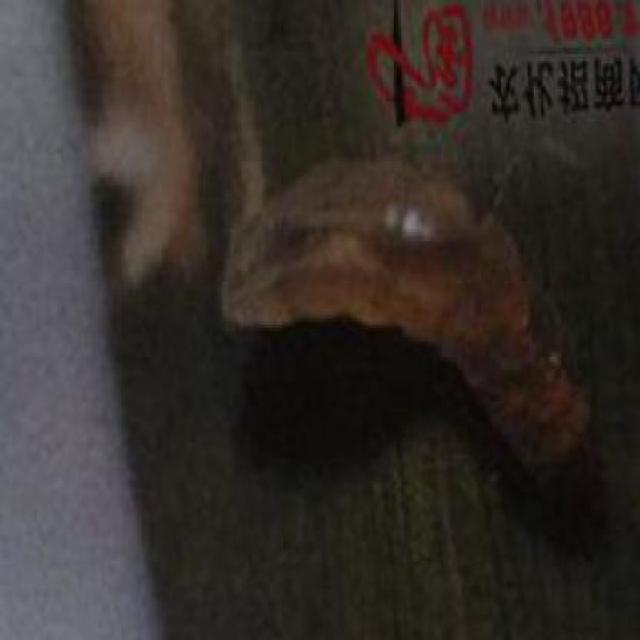whorl-maggot: (214, 137, 606, 494)
